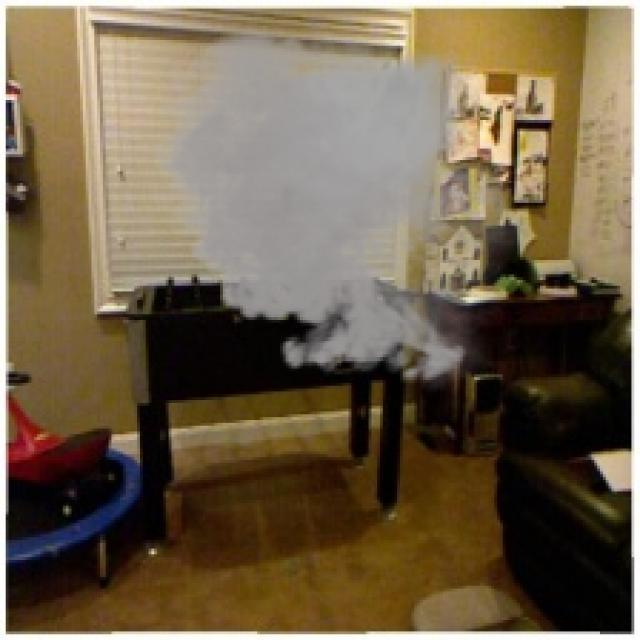smoke: (140, 17, 529, 394)
